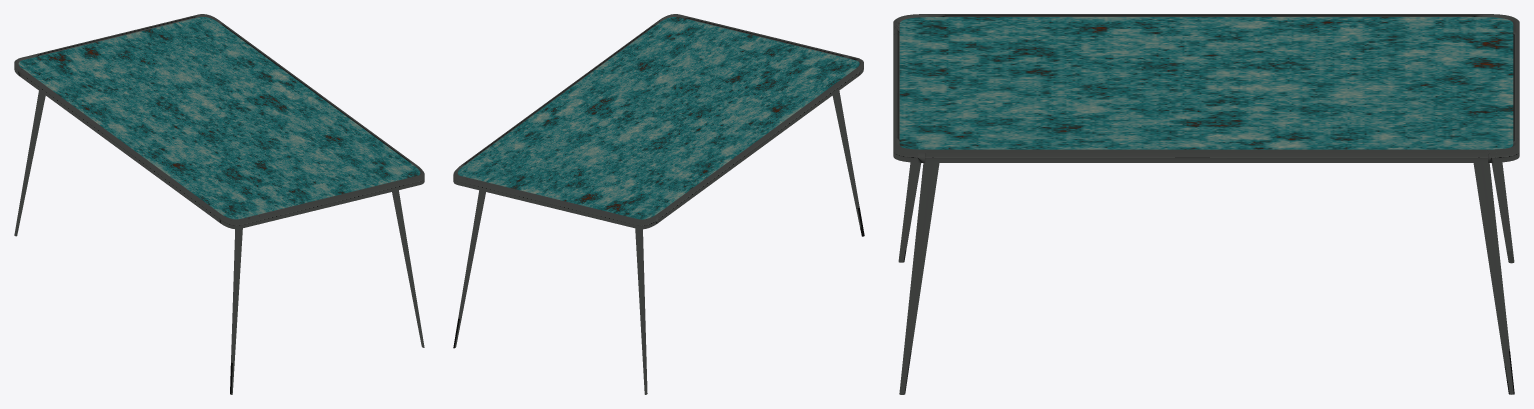
The model's file is Table.glb.
The picture shows the model from 3 angles, left to right: view 1: azimuth 30°, elevation 25°; view 2: azimuth 150°, elevation 25°; view 3: azimuth 270°, elevation 25°; orthographic projection. The views are drawn at different scales.
Visible parts, largest first — view 1: table_metal; view 2: table_metal; view 3: table_metal.
Boxes of the visible parts, box(x1,y1,x2,y2) form: table_metal: box(14, 14, 424, 394); table_metal: box(453, 14, 864, 394); table_metal: box(893, 14, 1519, 394).
Bounding box in the file's own units: 18.88 × 15.85 × 36.49.
Materials: 1 (1 with a texture image).
